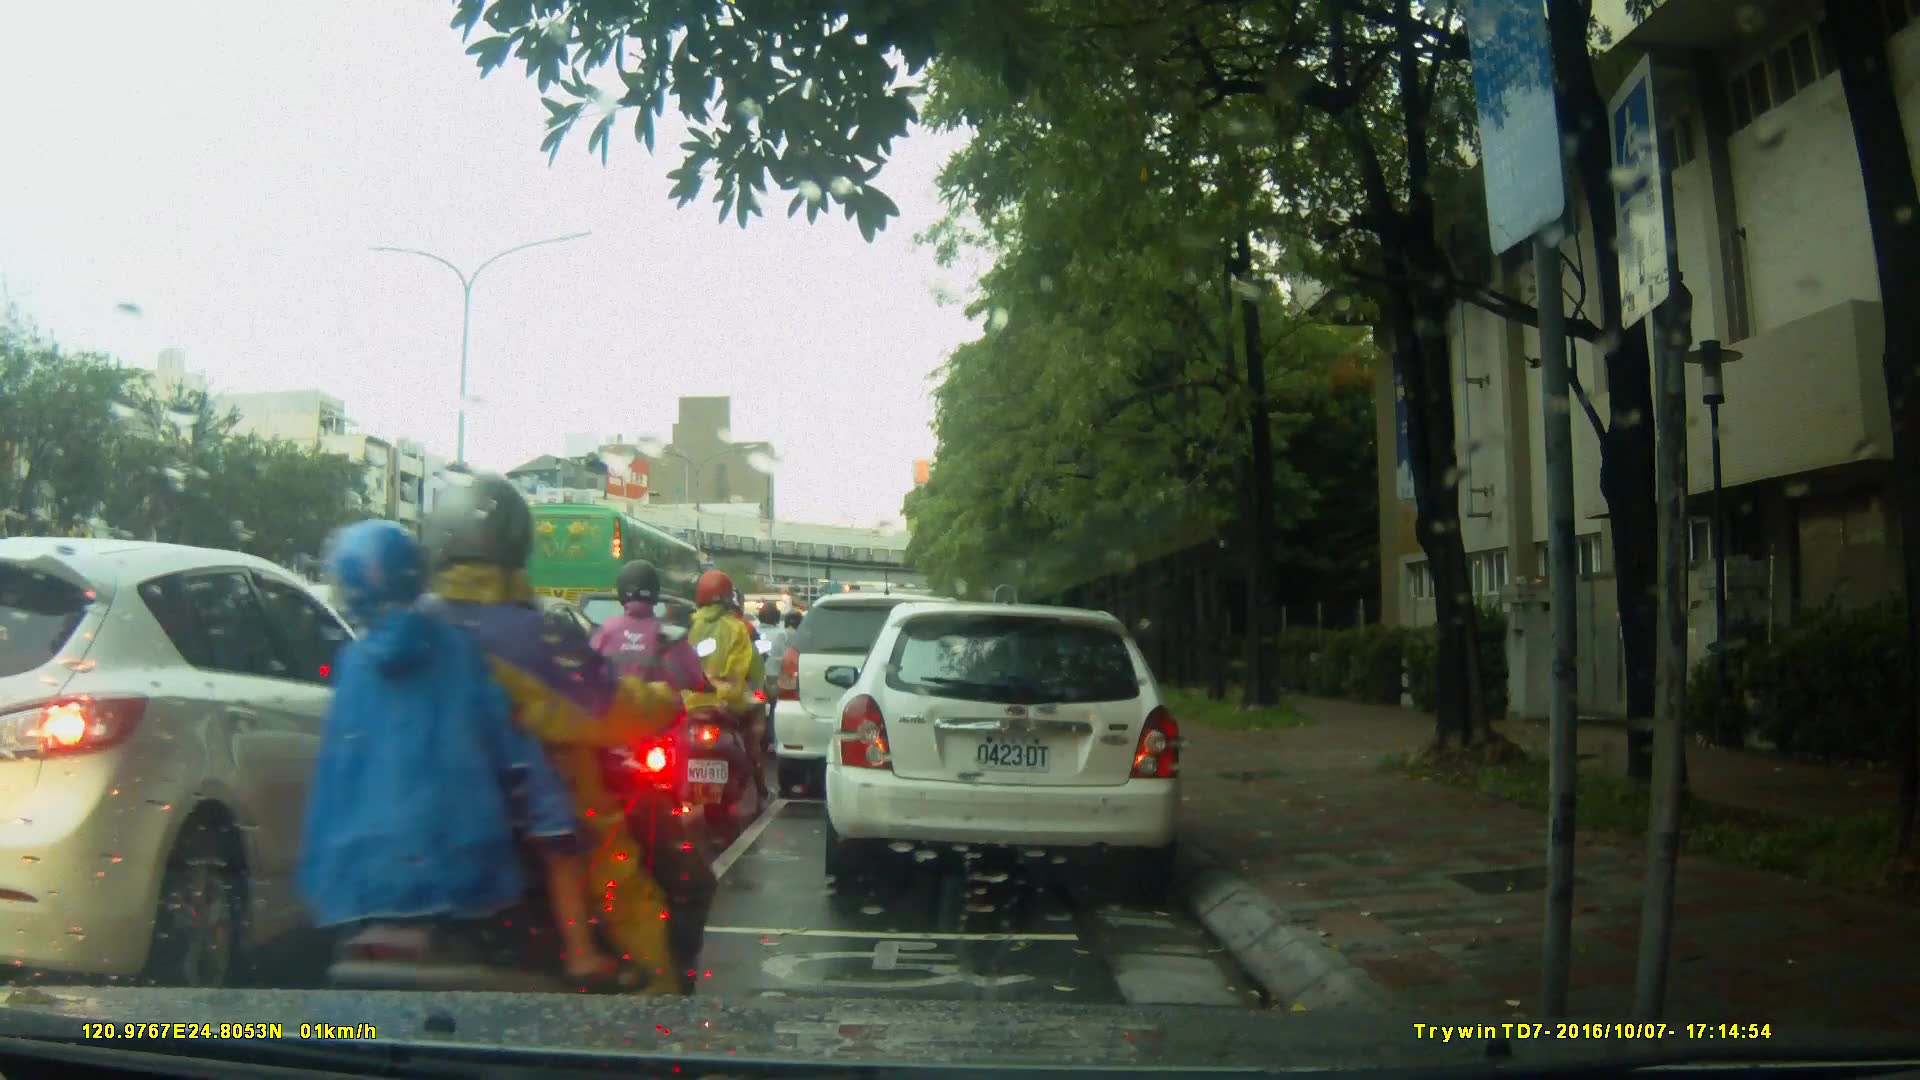rider: (307, 473, 713, 1068), (578, 564, 691, 866), (679, 566, 767, 814), (699, 591, 764, 760), (748, 598, 801, 749), (773, 605, 815, 714)
vehicle: (5, 536, 469, 988), (831, 592, 1196, 897), (316, 589, 629, 776), (770, 590, 999, 804), (497, 503, 713, 636)
